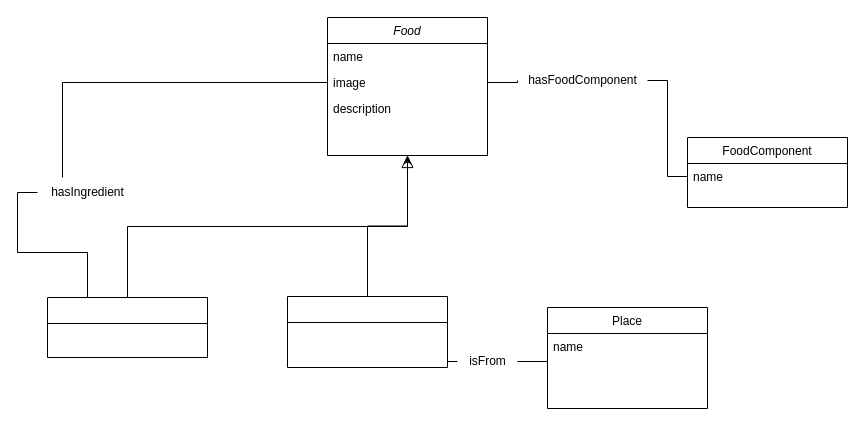
Some shapes in this 865 by 426 pixel diagram are drawn without their labels. Each missing label, with the centre of its shape:
"Dish" belongs at pixel 367 332.
"Ingredient" belongs at pixel 127 327.
